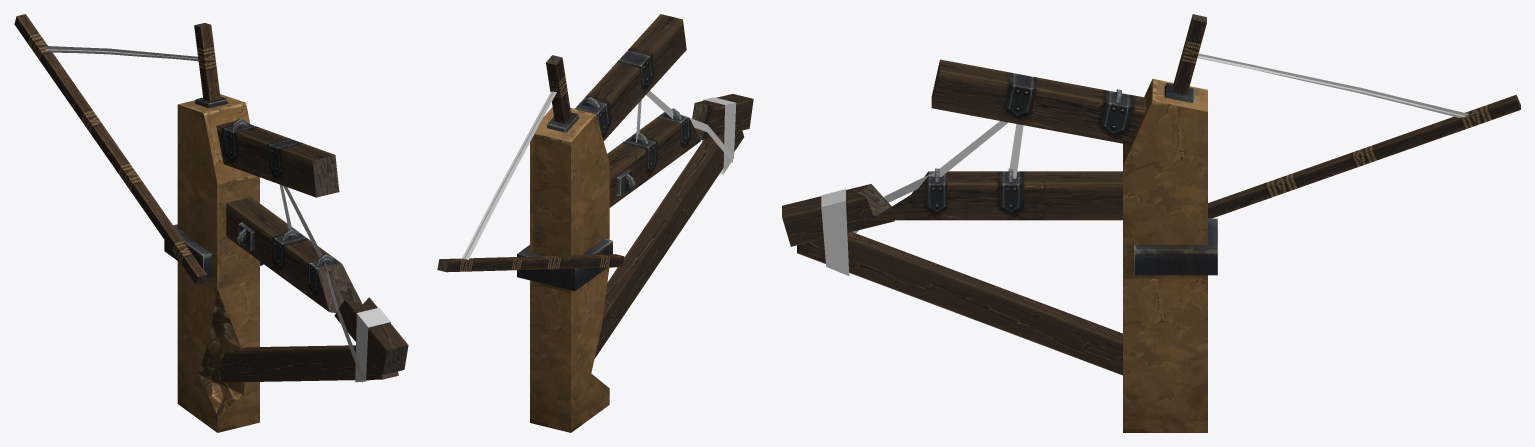
Rendered from A_mutou_021.fbx.
3 views of the same model, side by side, from view 1: azimuth 30°, elevation 25°; view 2: azimuth 150°, elevation 25°; view 3: azimuth 270°, elevation 25° (orthographic). The views are drawn at different scales.
Parts seen in each view (by area): view 1: pasted__A_mutou_021; view 2: pasted__A_mutou_021; view 3: pasted__A_mutou_021.
Boxes of the visible parts, <box> form: pasted__A_mutou_021: <box>14,14,408,432</box>; pasted__A_mutou_021: <box>437,14,753,432</box>; pasted__A_mutou_021: <box>782,14,1520,432</box>.
Bounding box in the file's own units: 120 × 632 × 1045.
